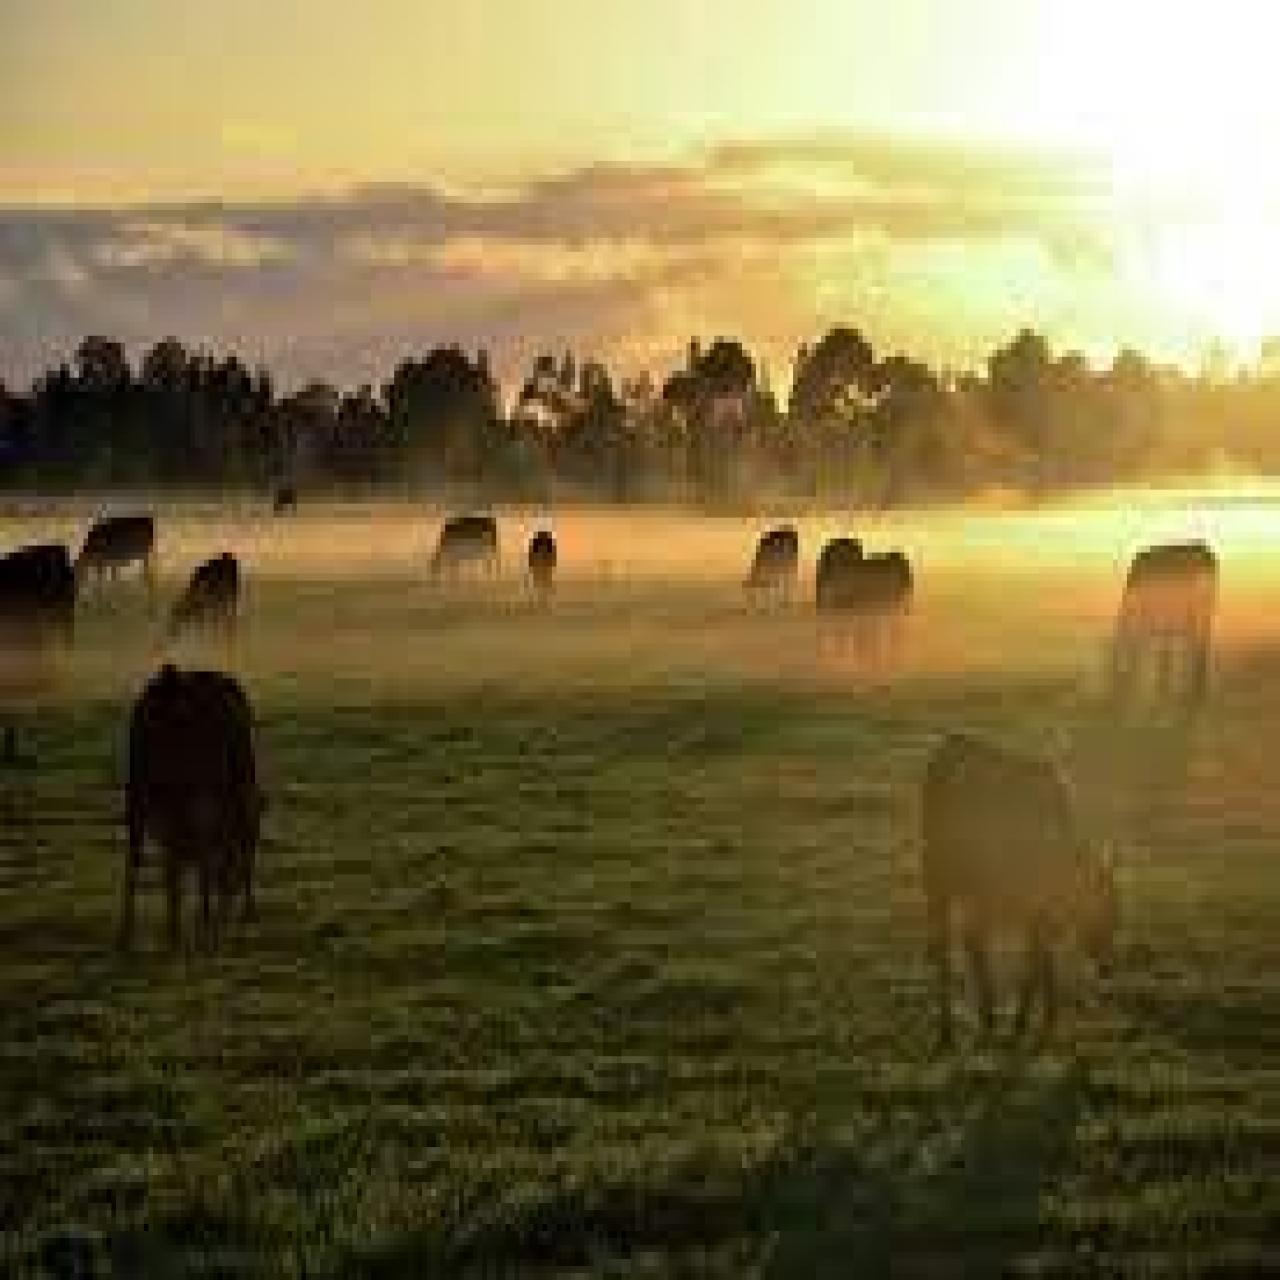cow: (920, 742, 1124, 1049), (109, 668, 271, 969), (1102, 538, 1226, 721), (63, 504, 161, 608), (157, 549, 245, 654), (844, 545, 914, 665), (0, 545, 79, 651), (740, 524, 804, 622), (816, 531, 867, 651), (431, 511, 497, 601), (531, 524, 559, 608), (273, 486, 301, 515)
